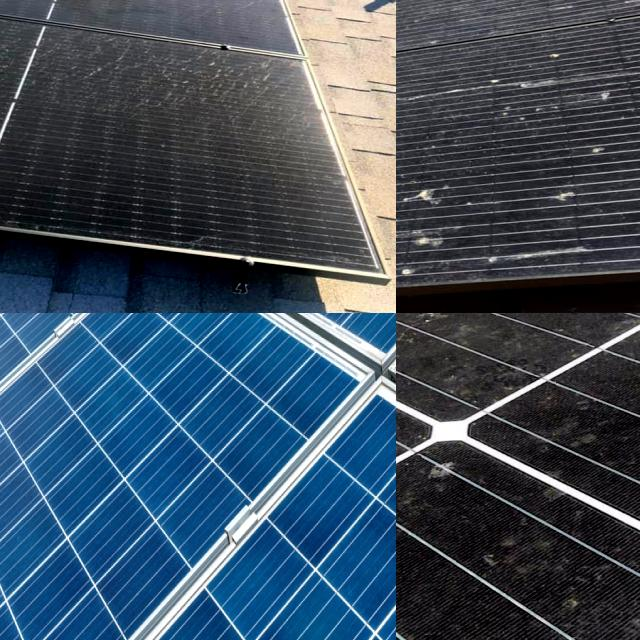bird: (396, 181, 479, 273), (461, 55, 548, 136), (464, 232, 624, 266), (576, 89, 640, 166), (396, 78, 462, 137), (396, 313, 463, 359), (528, 192, 638, 219), (396, 219, 434, 285), (396, 153, 456, 194), (396, 262, 448, 303), (563, 0, 640, 23), (396, 0, 423, 25)
crack: (0, 313, 396, 640)
dust: (48, 9, 304, 148), (0, 0, 93, 100), (84, 0, 249, 39)
